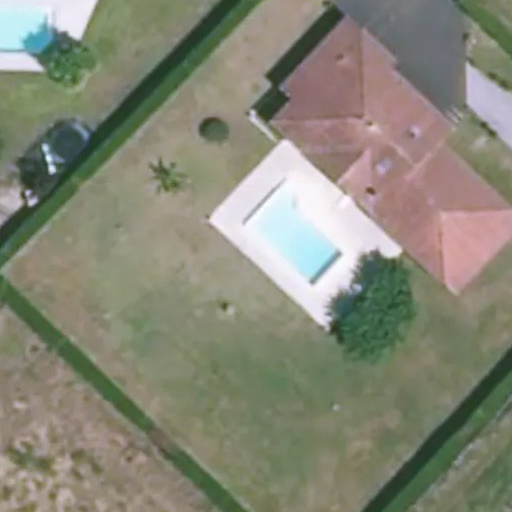pool: (200, 226, 310, 257)
